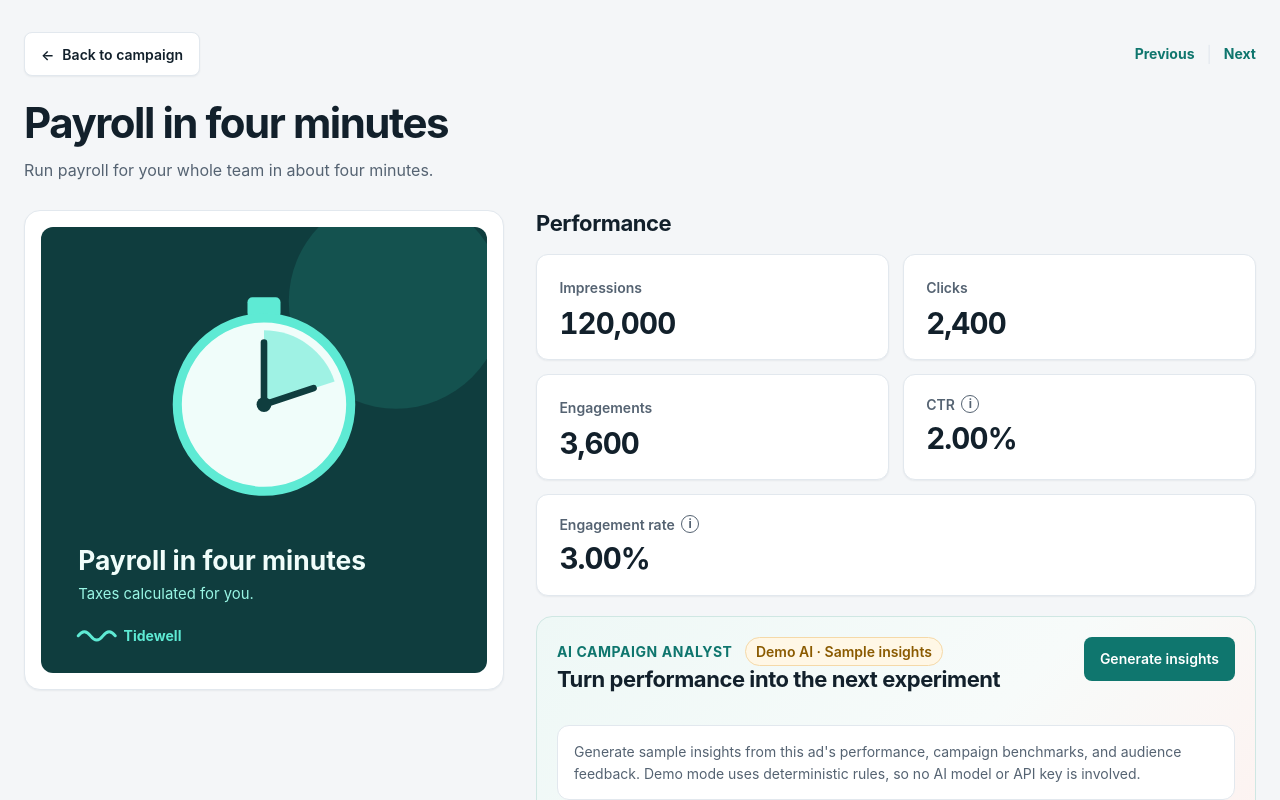
Test: AdDetailPage › shows the backend reason when insight generation fails
Click the button "Generate insights". click: [1159, 659]
box: [1084, 637, 1235, 681]
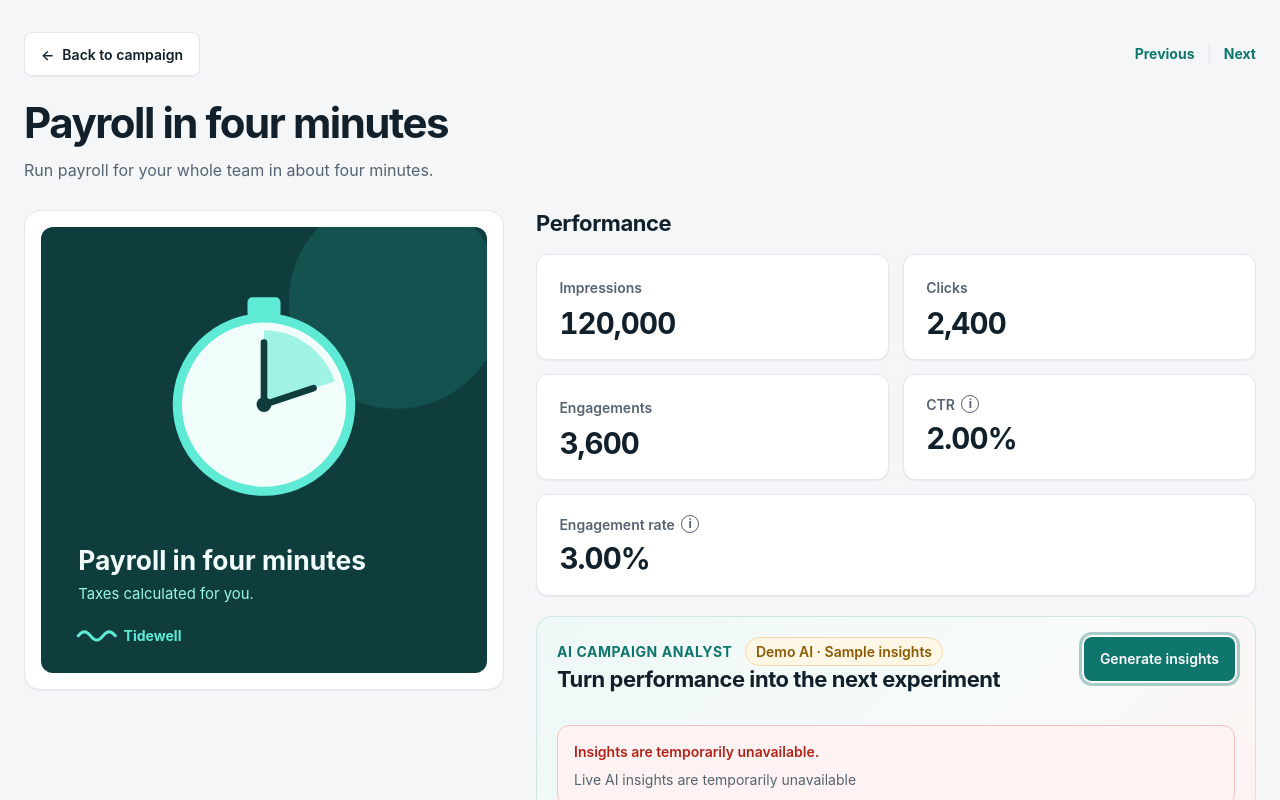
Result: the text "Live AI insights are temporarily unavailable" is shown at [574, 771, 856, 788]
Result: the message reads "Insights are temporarily unavailable." at [574, 743, 819, 760]
